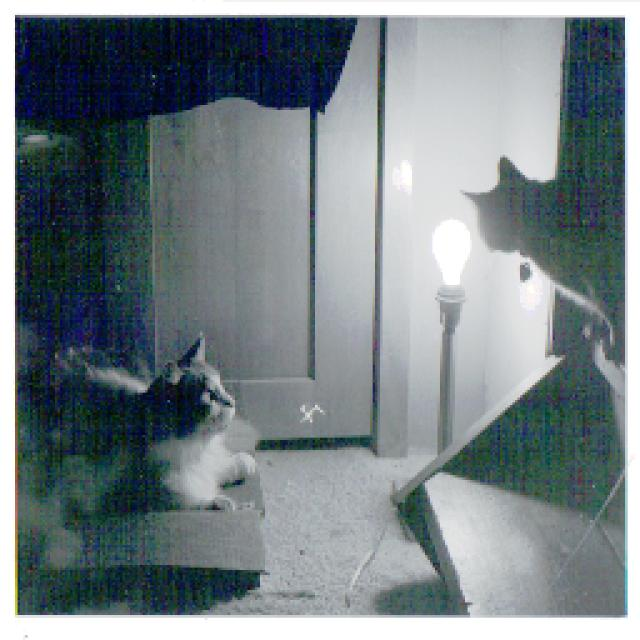cat: (6, 286, 281, 538), (462, 140, 640, 368)
